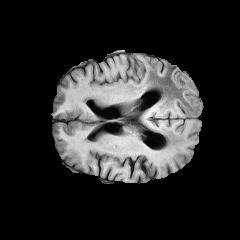glioma: (124, 66, 200, 148)
